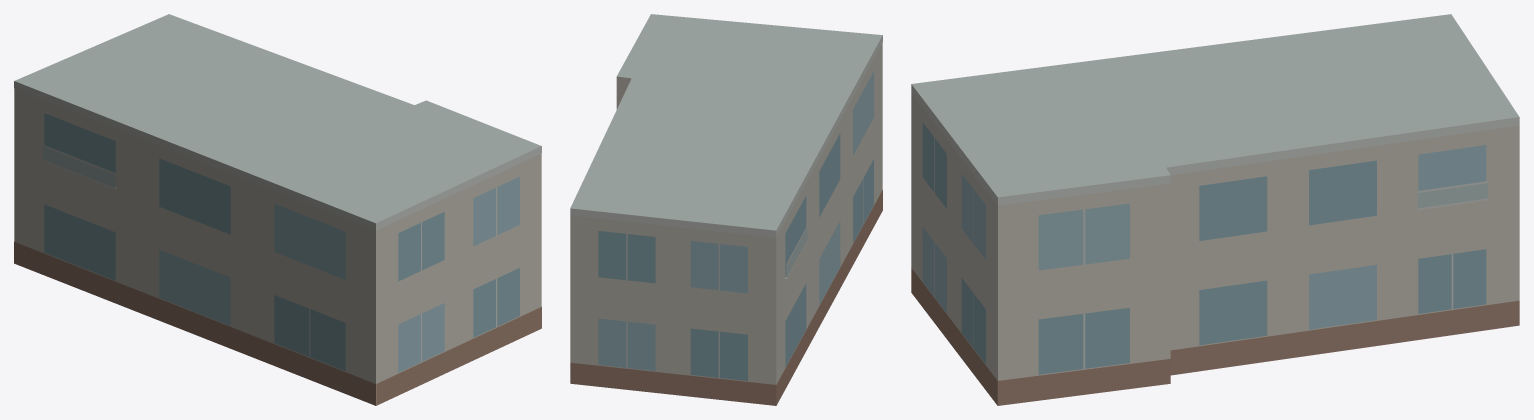
Rendered from survey-upis-32653283.glb.
3 renders of one model, left to right at view 1: azimuth 30°, elevation 25°; view 2: azimuth 150°, elevation 25°; view 3: azimuth 270°, elevation 25°, orthographic. The views are drawn at different scales.
Visible parts, largest first — view 1: survey-upis-32653283.tmp; view 2: survey-upis-32653283.tmp; view 3: survey-upis-32653283.tmp.
Boxes of the visible parts, x1=… form: survey-upis-32653283.tmp: x1=14, y1=14, x2=541, y2=405; survey-upis-32653283.tmp: x1=570, y1=14, x2=882, y2=405; survey-upis-32653283.tmp: x1=911, y1=14, x2=1519, y2=405.
Bounding box in the file's own units: 11.52 × 6.1 × 16.14.
